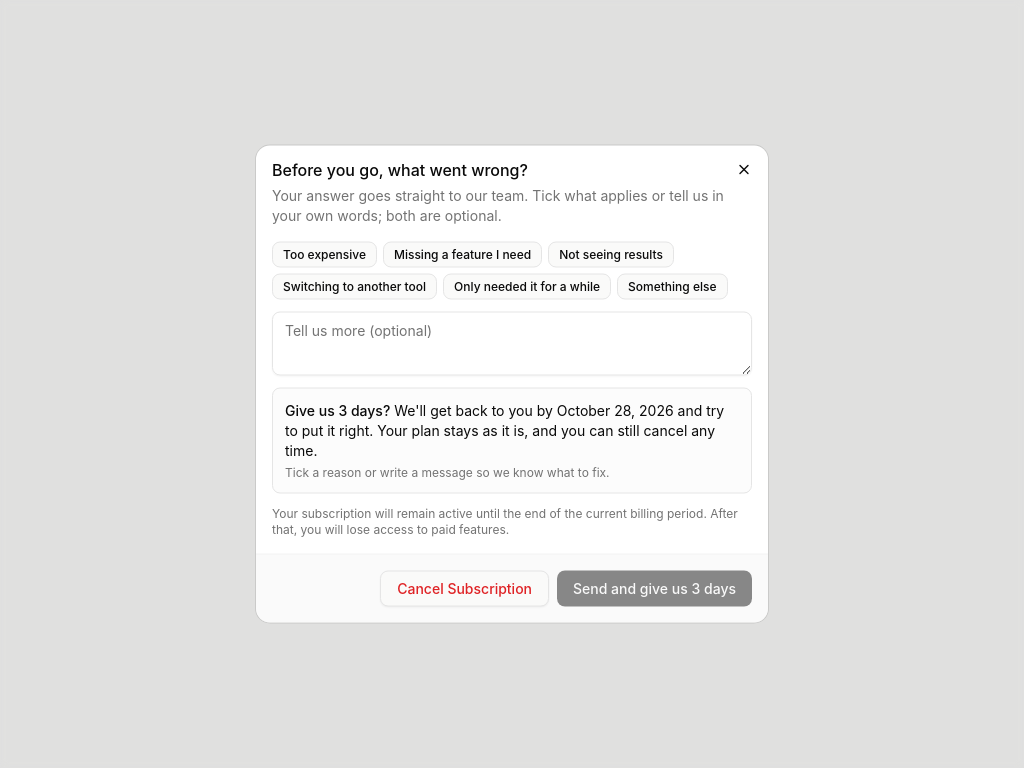
Scenario: giving the team three days › sends the answer and keeps the plan, once there is something to fix
Expected: the button "Send and give us 3 days" is disabled, [557, 570, 752, 606]
Click the button "Missing a feature I need": (463, 254) [383, 242, 542, 268]
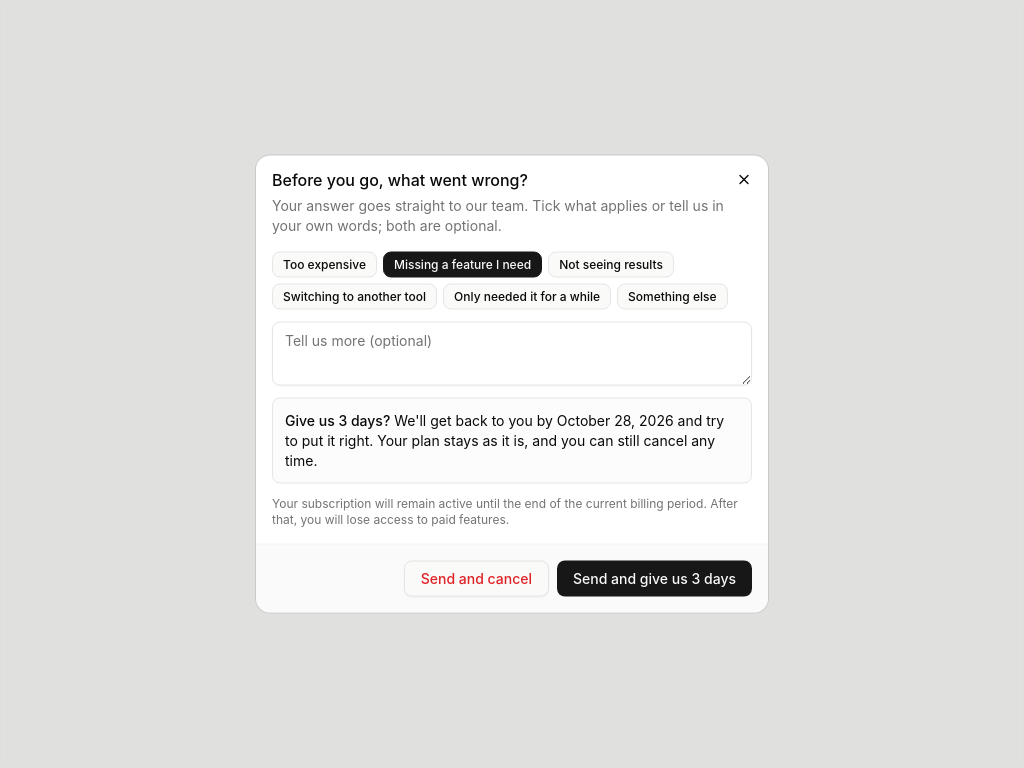
Expected: the button "Send and give us 3 days" is enabled
Click the button "Send and give us 3 days": (654, 578) [557, 560, 752, 596]
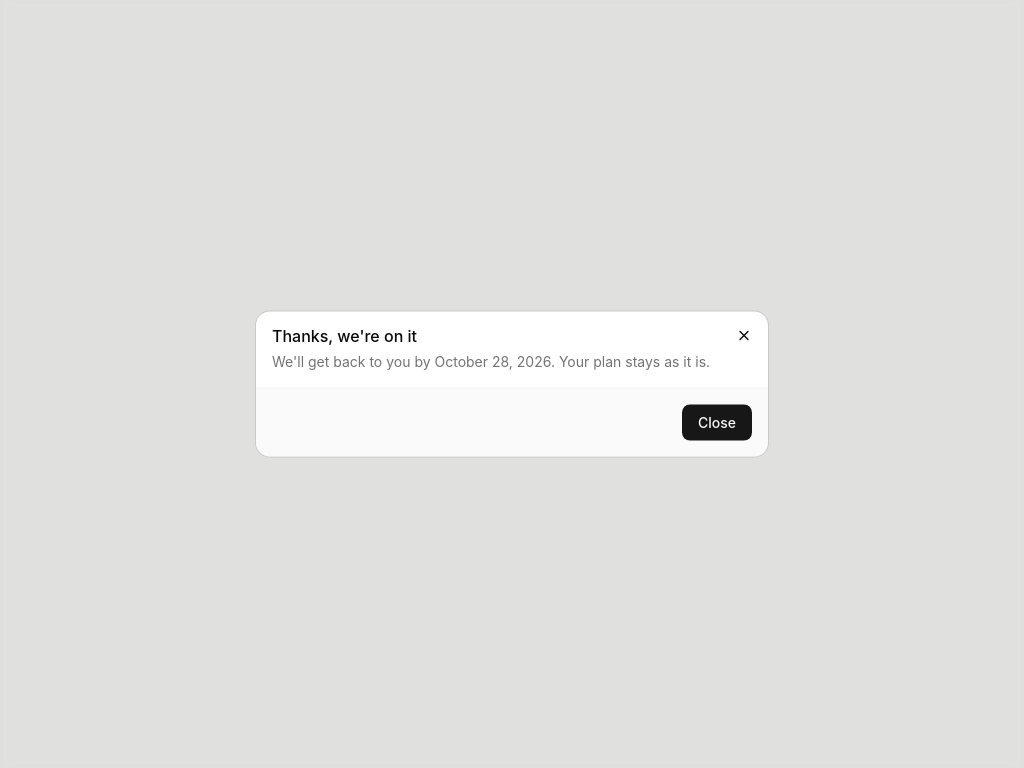
Expected: the text "Thanks, we're on it" is shown, [272, 326, 417, 346]
